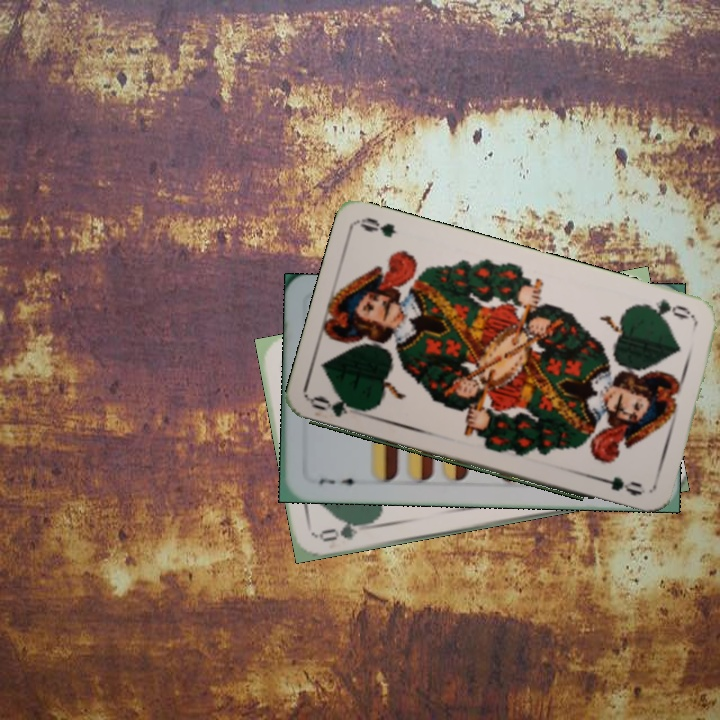E7: (314, 474, 363, 488)
GO: (307, 391, 368, 420), (637, 295, 696, 323), (315, 518, 374, 545)
